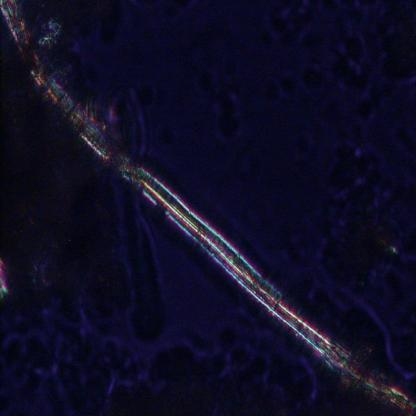Microfibre: (0, 0, 416, 412)
